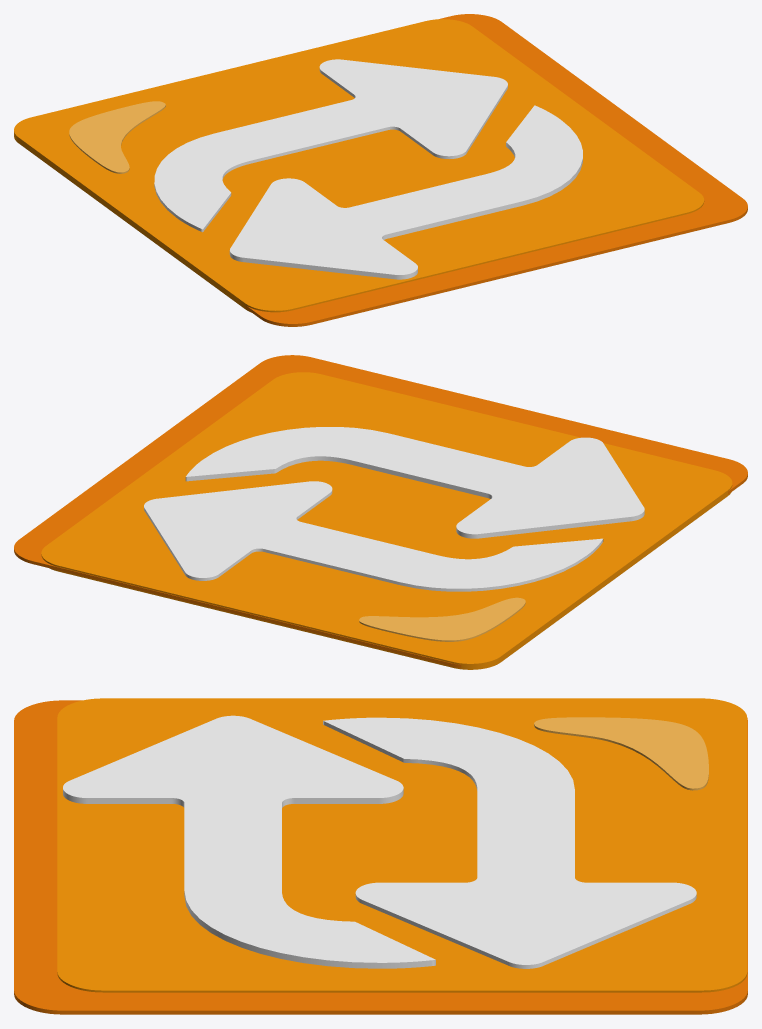
Rendered from emoji_u1f501.glb.
3 views of the same model, one above another, from view 1: azimuth 30°, elevation 25°; view 2: azimuth 150°, elevation 25°; view 3: azimuth 270°, elevation 25° (orthographic). The views are drawn at different scales.
Visible parts, largest first — view 1: emoji_u1f501; view 2: emoji_u1f501; view 3: emoji_u1f501.
Boxes of the visible parts, x1,y1,x2,y2 form: emoji_u1f501: [14, 14, 747, 326]; emoji_u1f501: [14, 355, 747, 669]; emoji_u1f501: [14, 698, 747, 1014].
Size of the model in its own units: 0.0339 by 0.001 by 0.0339.
